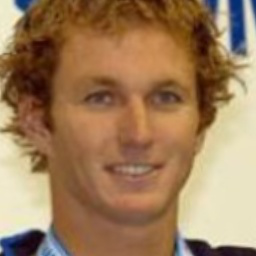Person: (3, 5, 237, 256)
